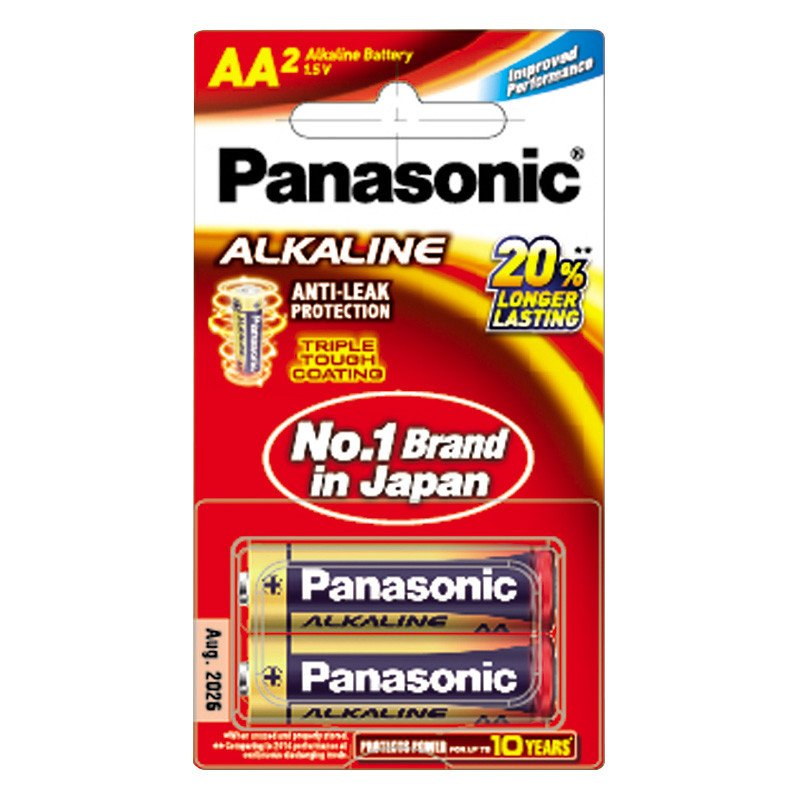Battery: (232, 631, 559, 729), (232, 540, 561, 634)
